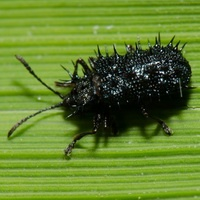insect: (7, 33, 191, 156)
